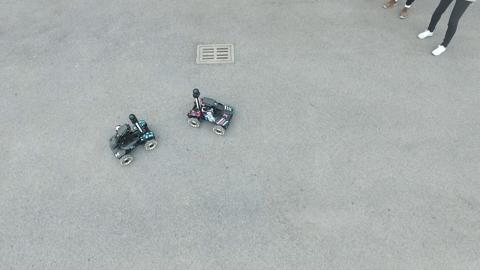chariot: (105, 111, 160, 164), (188, 86, 233, 137)
